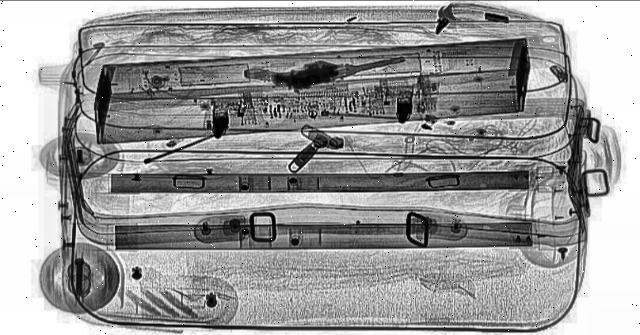Gun: (238, 38, 414, 100)
